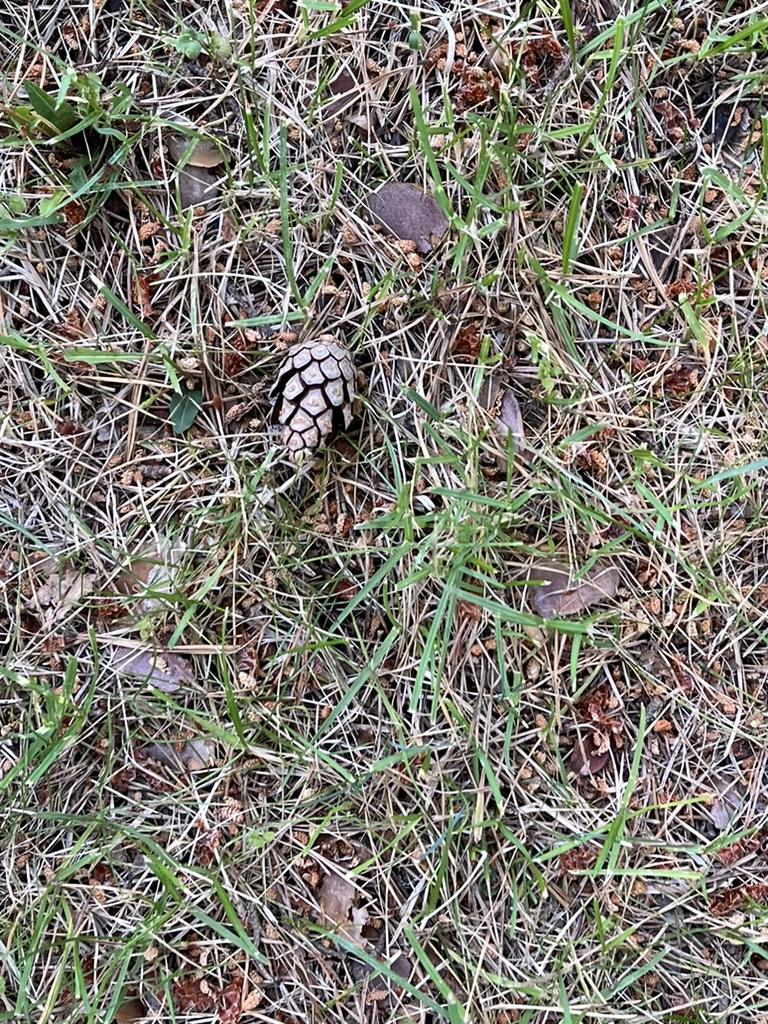pine: (266, 323, 361, 486)
